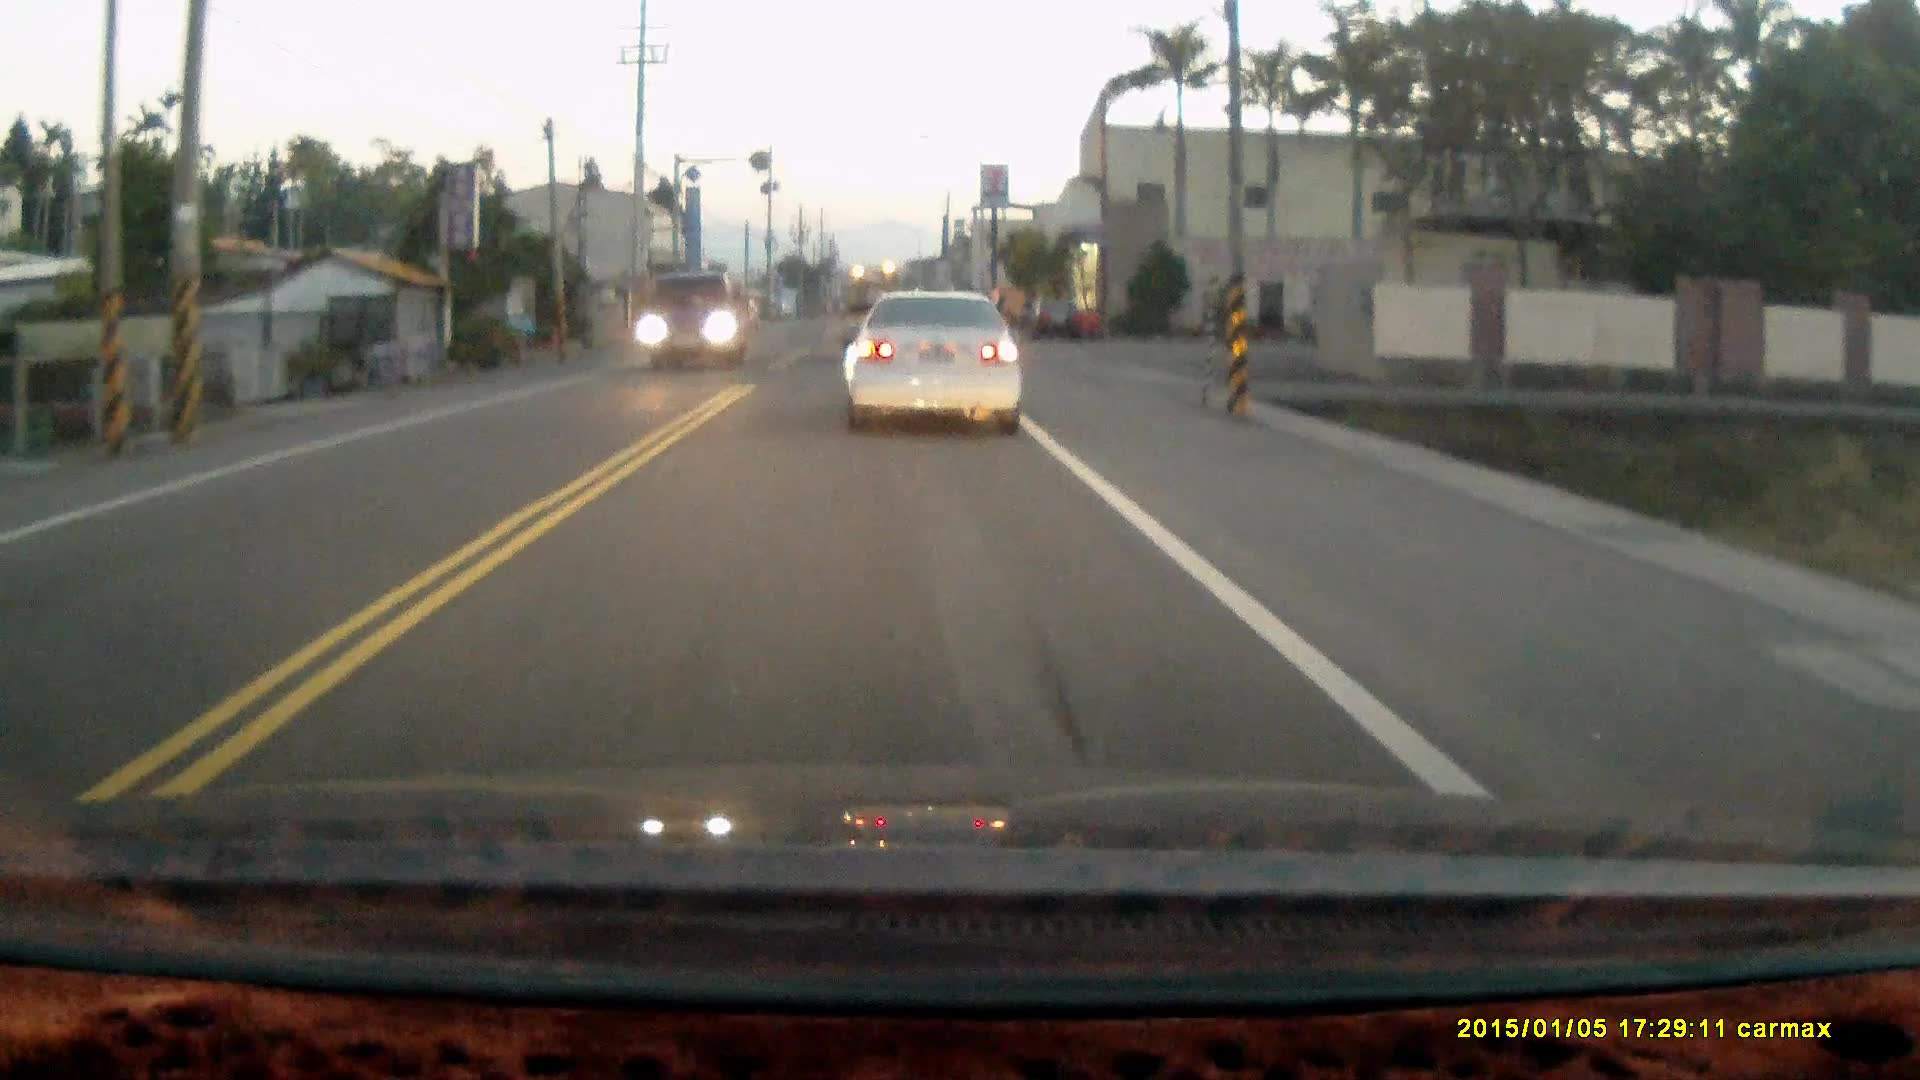vehicle: (849, 285, 1023, 439), (644, 269, 750, 375), (1029, 291, 1087, 339), (717, 305, 767, 343)
